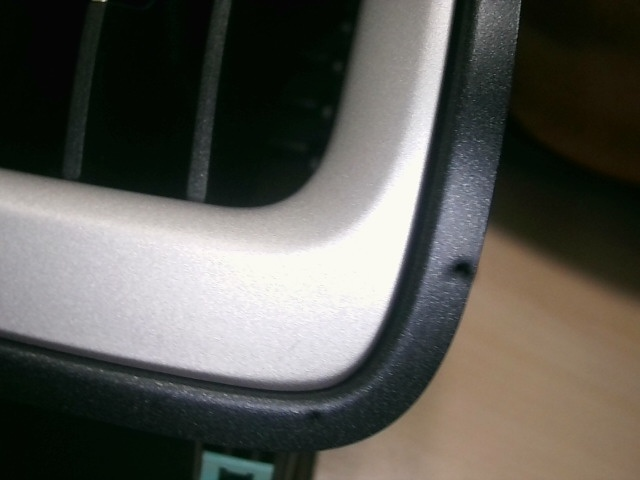NG: (282, 335, 305, 358)
